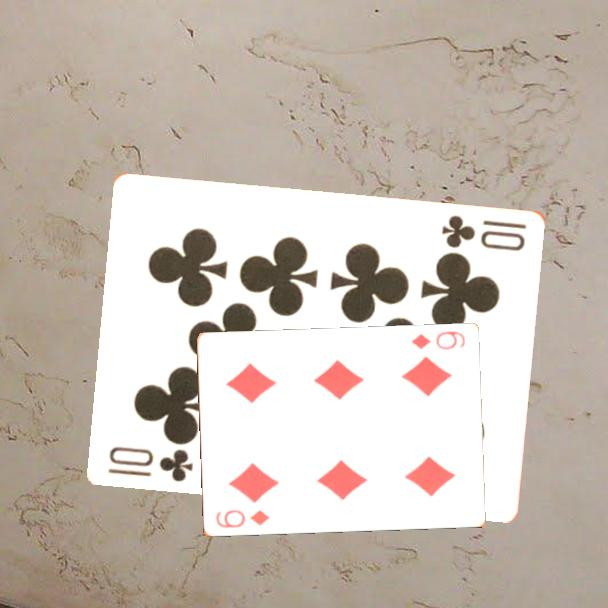c10: (438, 211, 530, 254), (105, 442, 196, 484)
d06: (212, 506, 272, 531), (408, 328, 467, 353)
